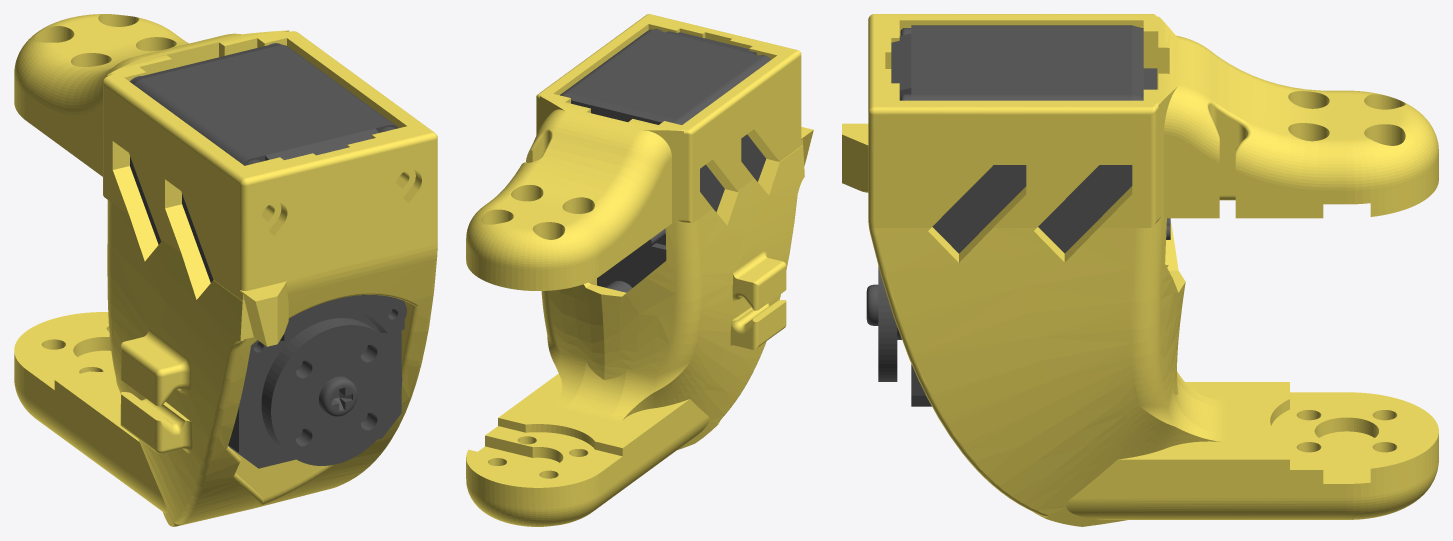
The model's file is wrist.glb.
The picture shows the model from 3 angles, left to right: view 1: azimuth 30°, elevation 25°; view 2: azimuth 150°, elevation 25°; view 3: azimuth 270°, elevation 25°; orthographic projection. The views are drawn at different scales.
Parts seen in each view (by area): view 1: wrist; view 2: wrist; view 3: wrist.
Boxes of the visible parts, x1,y1,x2,y2 form: wrist: (14,14,437,526); wrist: (466,14,813,526); wrist: (842,14,1438,526).
Size of the model in its own units: 0.0357 by 0.0623 by 0.0778.
